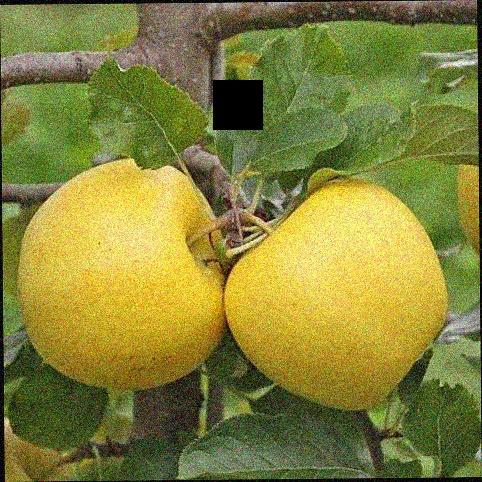green apple: (15, 158, 228, 405), (229, 172, 450, 410)
